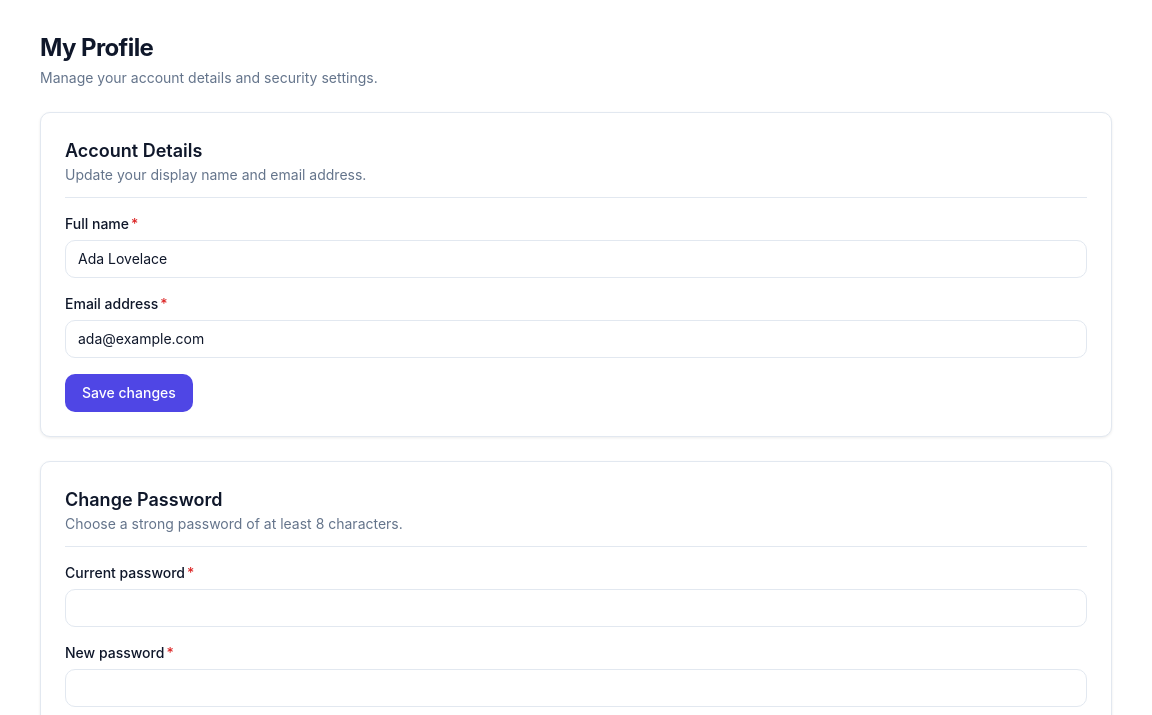
Test: ProfilePage › pre-fills account details and submits profile update
Check: the field labelled "Email address*" holds "ada@example.com", box [65, 320, 1087, 358]
Replace the text in the field labelled "Full name*" with "Ada Byron": [576, 259] box [65, 240, 1087, 278]
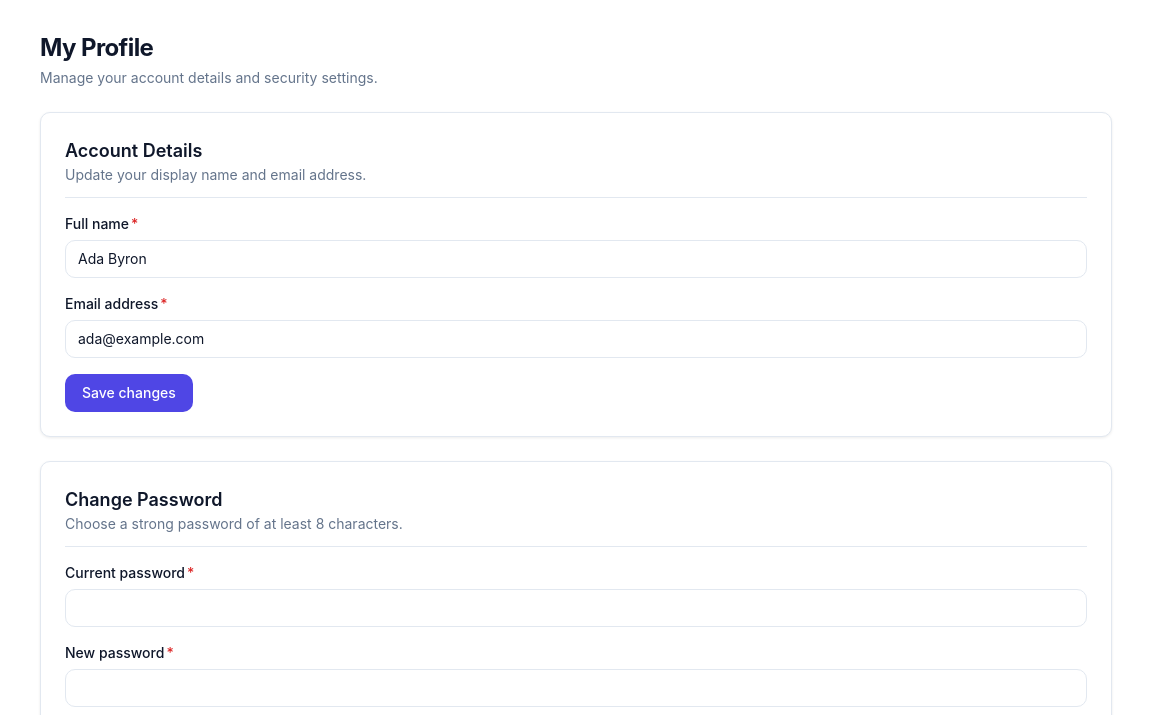
Replace the text in the field labelled "Email address*" with "ada@new.com": [576, 339] box [65, 320, 1087, 358]
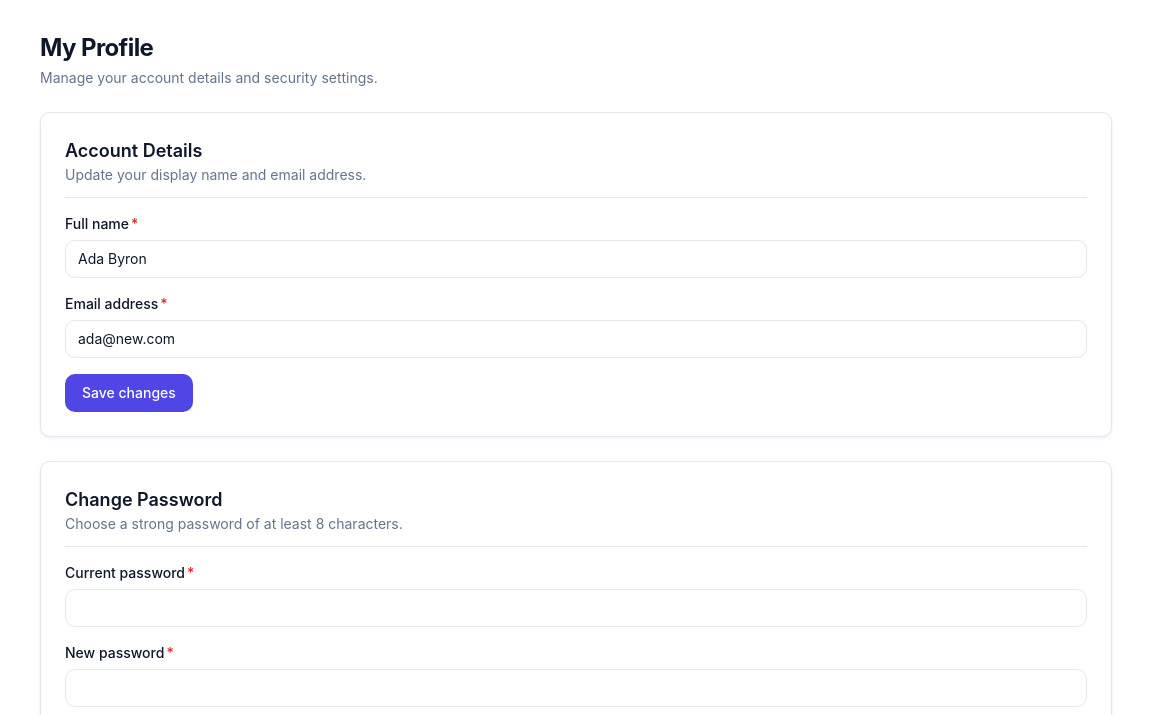
Click the button "Save changes": [129, 393] box [65, 374, 193, 412]
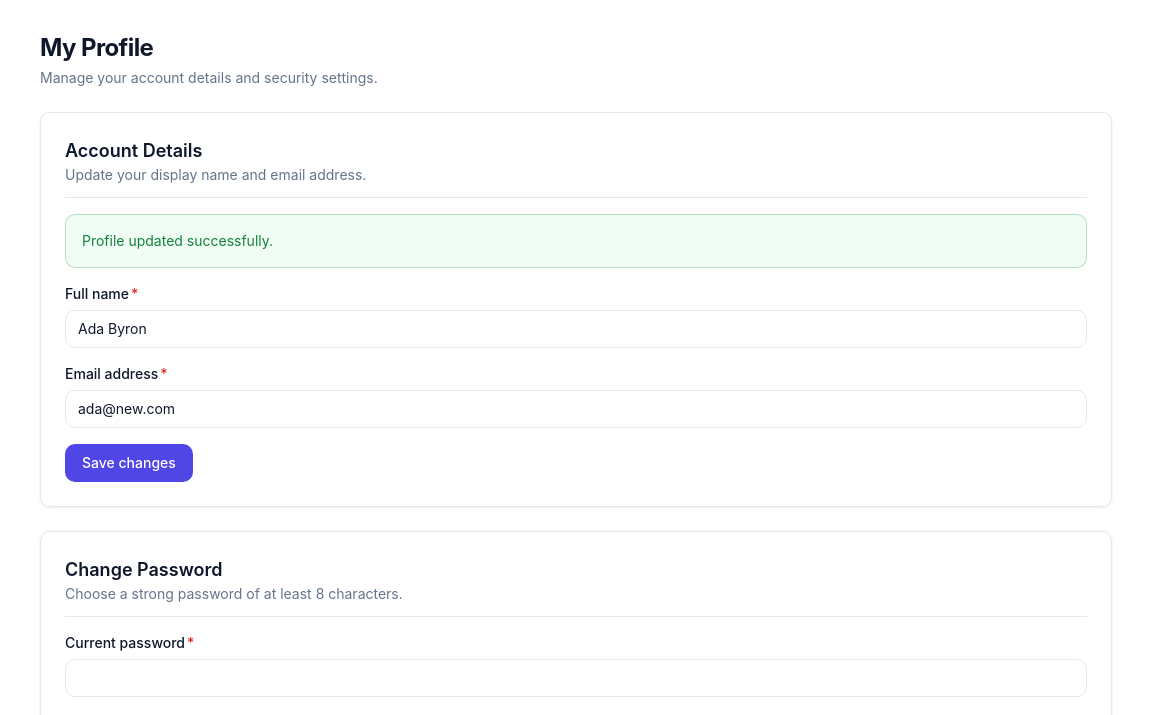
Check: the text "Profile updated successfully." is shown, box [82, 231, 273, 251]
